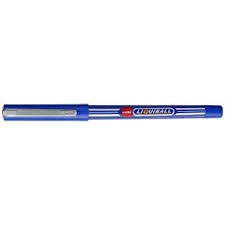pen: (1, 101, 222, 121)
